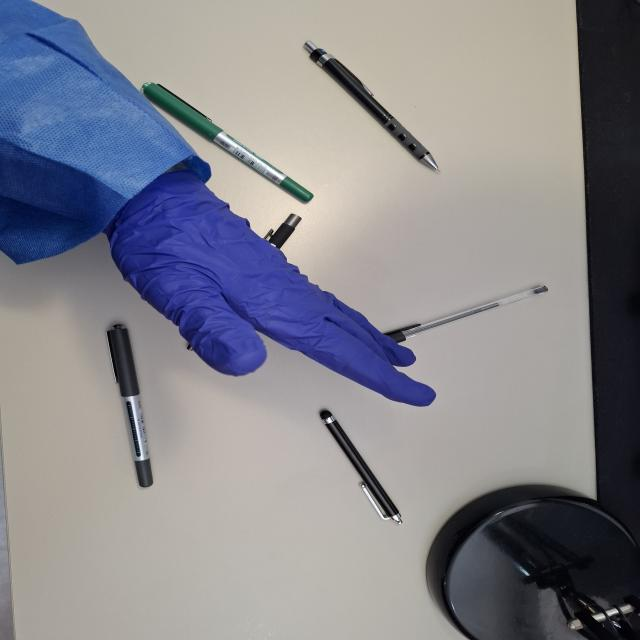glove_on: (94, 157, 442, 410)
